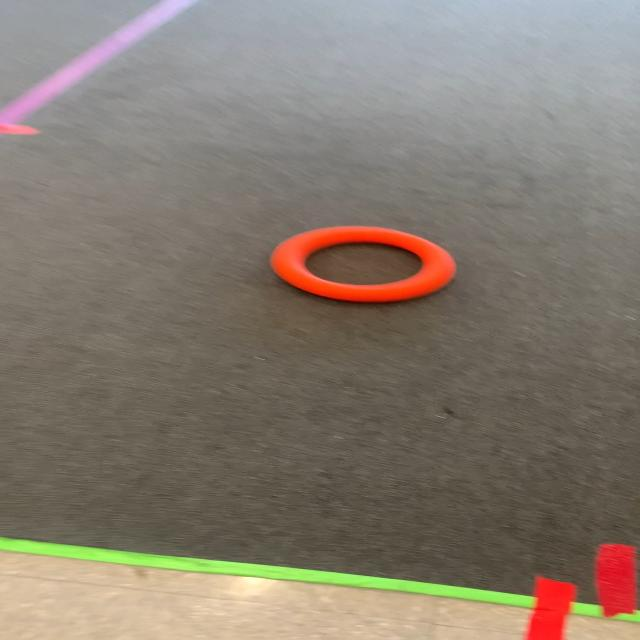notes: (270, 224, 456, 302)
